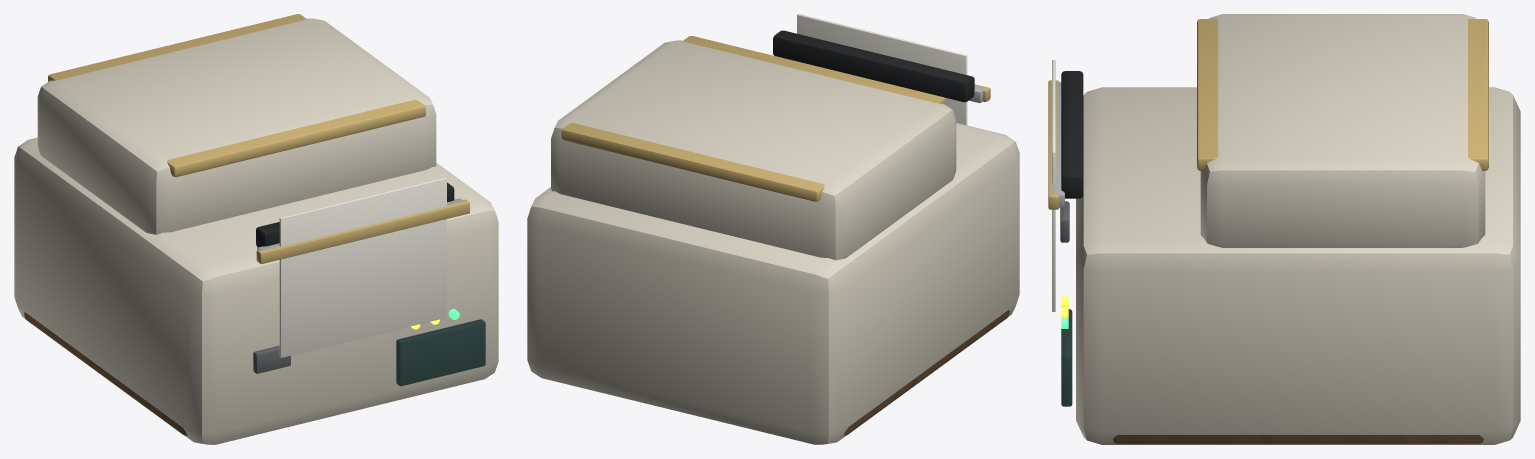
Rendered from receipt_printer_country_club.glb.
The picture shows the model from 3 angles, left to right: view 1: azimuth 30°, elevation 25°; view 2: azimuth 150°, elevation 25°; view 3: azimuth 270°, elevation 25°; orthographic projection. The views are drawn at different scales.
Visible parts, largest first — view 1: Printer_Body, Printer_RollLid, ReceiptPaper, Printer_LidTrim, Printer_NetworkPanel, Printer_BrassTearBar, Printer_WalnutSide_-1, Printer_FeedButton, Printer_OutputSlot; view 2: Printer_Body, Printer_RollLid, Printer_LidTrim, Printer_OutputSlot, ReceiptPaper, Printer_WalnutSide_-1; view 3: Printer_Body, Printer_RollLid, Printer_LidTrim, Printer_WalnutSide_1, Printer_OutputSlot, Printer_NetworkPanel, Printer_BrassTearBar, ReceiptPaper, Printer_AutoCutter.
Part boxes in pixels (x1,y1,x2,y2): Printer_Body: (14,137,498,444); Printer_RollLid: (37,18,436,234); ReceiptPaper: (279,177,446,357); Printer_LidTrim: (48,14,425,177); Printer_NetworkPanel: (396,319,485,386); Printer_BrassTearBar: (256,199,469,263); Printer_WalnutSide_-1: (24,312,187,435); Printer_FeedButton: (253,345,290,373); Printer_OutputSlot: (256,182,454,247); Printer_Body: (527,123,1019,444); Printer_RollLid: (551,40,956,260); Printer_LidTrim: (561,36,945,201); Printer_OutputSlot: (773,30,974,102); ReceiptPaper: (797,14,967,125); Printer_WalnutSide_-1: (844,310,1009,435); Printer_Body: (1076,87,1520,444); Printer_RollLid: (1200,14,1485,247); Printer_LidTrim: (1197,19,1488,170); Printer_WalnutSide_1: (1113,435,1483,443); Printer_OutputSlot: (1061,71,1083,198); Printer_NetworkPanel: (1061,309,1072,406); Printer_BrassTearBar: (1048,80,1059,209); ReceiptPaper: (1052,60,1055,311); Printer_AutoCutter: (1052,82,1064,207).
Size of what is drawn, in the model's own units: 0.22 by 0.1683 by 0.255.
Materials: 10 (1 with a texture image).
